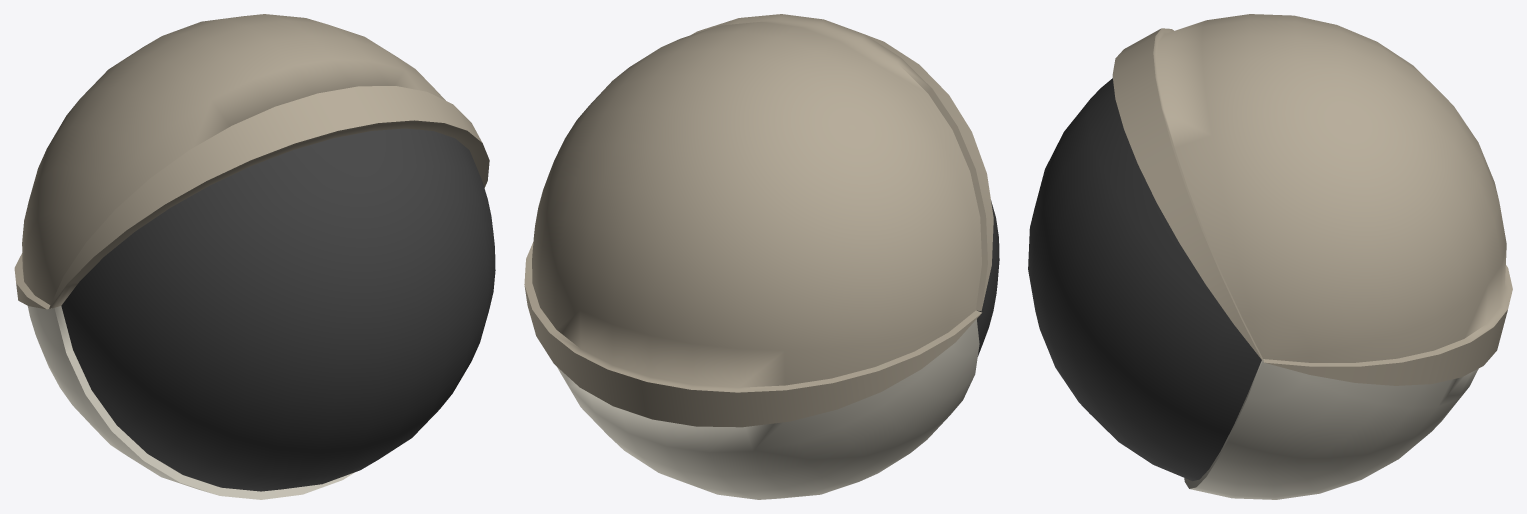
Rendered from Astronaut kaciga.fbx.
3 views of the same model, side by side, from view 1: azimuth 30°, elevation 25°; view 2: azimuth 150°, elevation 25°; view 3: azimuth 270°, elevation 25° (orthographic).
Visible parts, largest first — view 1: Sphere; view 2: Sphere; view 3: Sphere.
Boxes of the visible parts, bbox=[...] form: Sphere: bbox=[14, 14, 495, 499]; Sphere: bbox=[524, 14, 999, 499]; Sphere: bbox=[1028, 14, 1512, 499].
Size of the model in its own units: 45.25 by 44.17 by 43.97.
